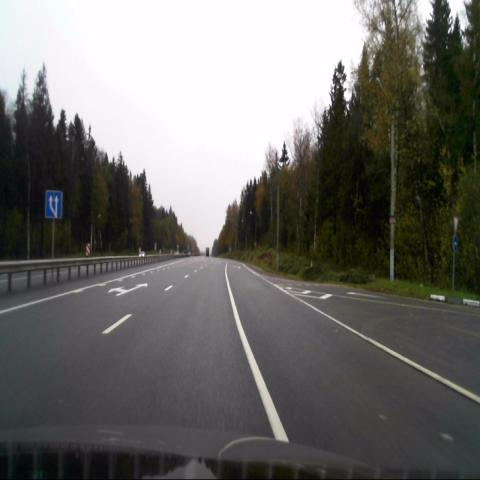5_15_3: (45, 189, 61, 219)
